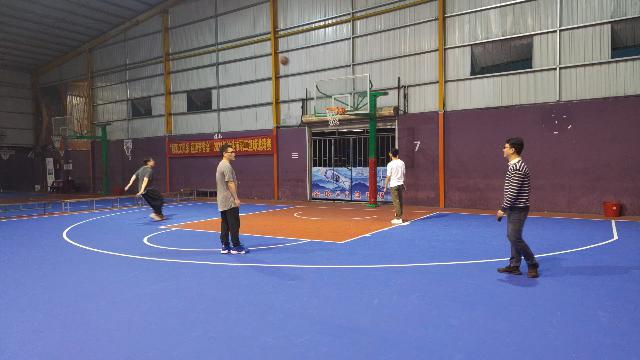ball: (278, 55, 290, 65)
basket: (325, 106, 343, 126), (50, 134, 64, 146)
